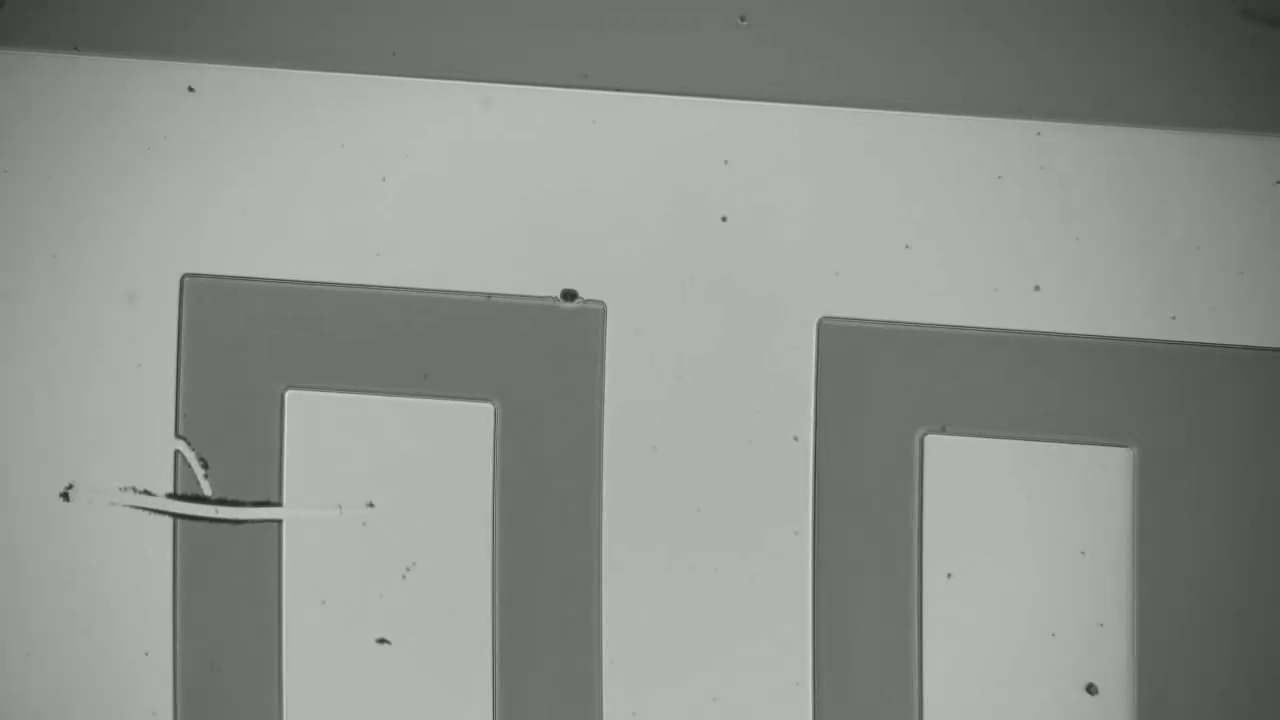Short_circuit: (152, 480, 311, 545)
